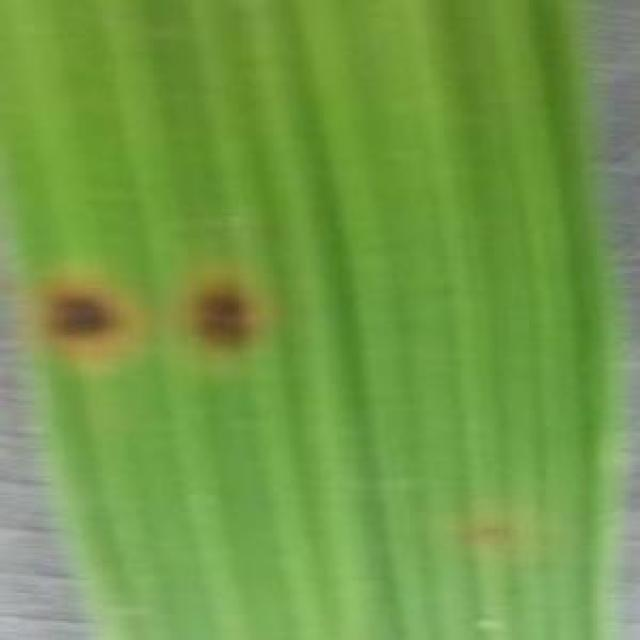Brown_Spot: (28, 270, 148, 368), (173, 274, 289, 356)
